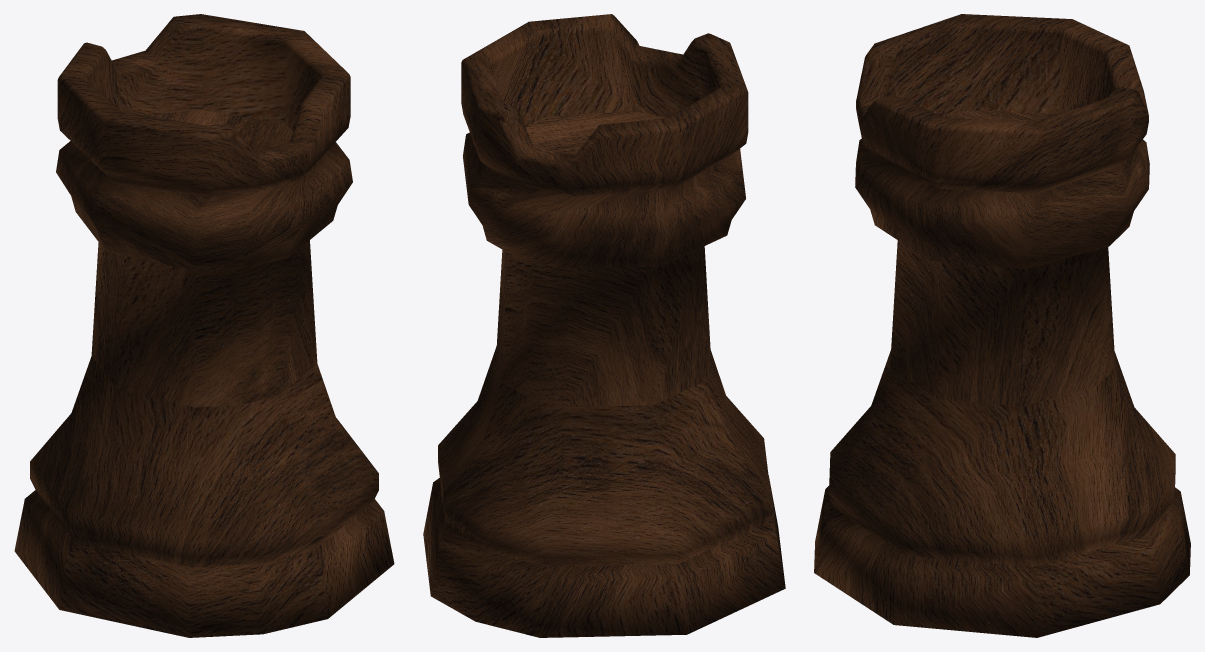
Rendered from gercek4_r_b.glb.
The picture shows the model from 3 angles, left to right: view 1: azimuth 30°, elevation 25°; view 2: azimuth 150°, elevation 25°; view 3: azimuth 270°, elevation 25°; orthographic projection.
Visible parts, largest first — view 1: BlackRook_2; view 2: BlackRook_2; view 3: BlackRook_2.
Part boxes in pixels (x1,y1,x2,y2): BlackRook_2: [14, 14, 394, 637]; BlackRook_2: [423, 14, 785, 637]; BlackRook_2: [814, 14, 1190, 637].
Bounding box in the file's own units: 0.0295 × 0.042 × 0.0295.
Materials: 1 (1 with a texture image).
